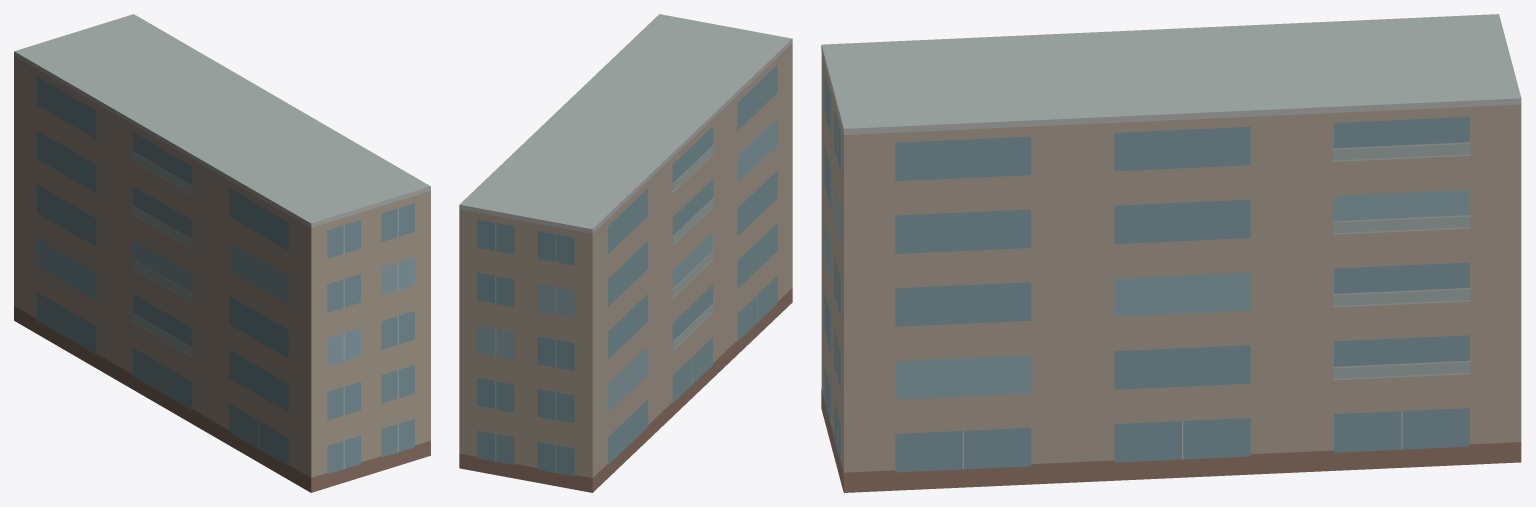
File: survey-upis-32670642.glb
3 renders of one model, left to right at view 1: azimuth 30°, elevation 25°; view 2: azimuth 150°, elevation 25°; view 3: azimuth 270°, elevation 25°, orthographic. The views are drawn at different scales.
Parts seen in each view (by area): view 1: survey-upis-32670642.tmp; view 2: survey-upis-32670642.tmp; view 3: survey-upis-32670642.tmp.
Part boxes in pixels (bbox=[...]): survey-upis-32670642.tmp: bbox=[14, 14, 430, 492]; survey-upis-32670642.tmp: bbox=[459, 14, 792, 492]; survey-upis-32670642.tmp: bbox=[821, 14, 1521, 492].
Size of the model in its own units: 9.82 by 14.5 by 25.28.
